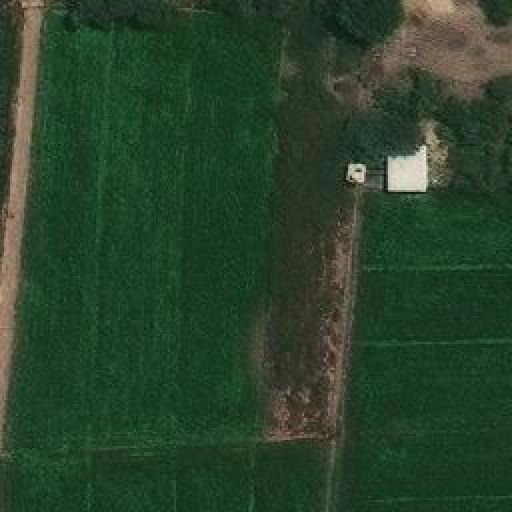manzanas: (345, 144, 431, 192)
